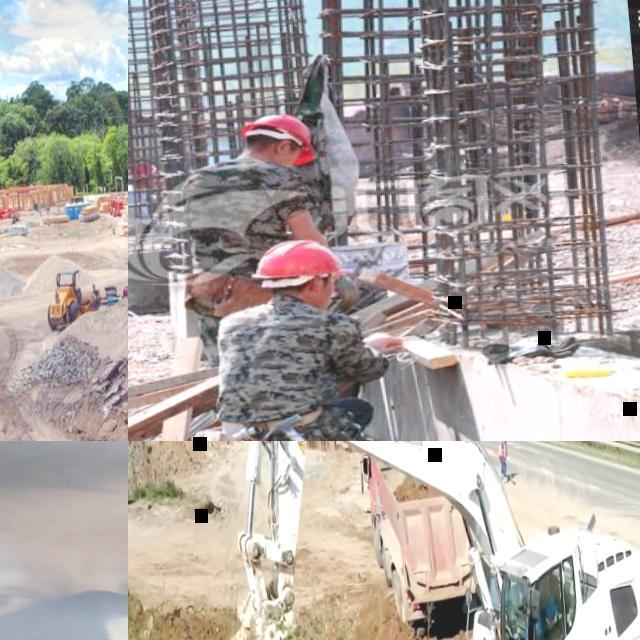helmet: (251, 231, 356, 290), (238, 110, 319, 173), (128, 156, 163, 179)
vest: (496, 441, 505, 458)
